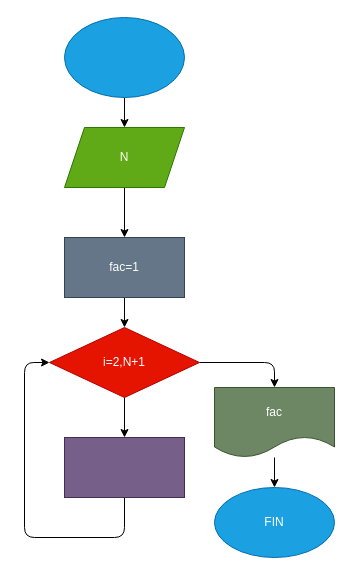
This 352x575 diagram has some shape labels left out. Here are the shapes that lost their labels. From the top down, the box of each, then its label:
(64, 16, 184, 98): INICIO
(64, 436, 184, 498): fac=fac*i
